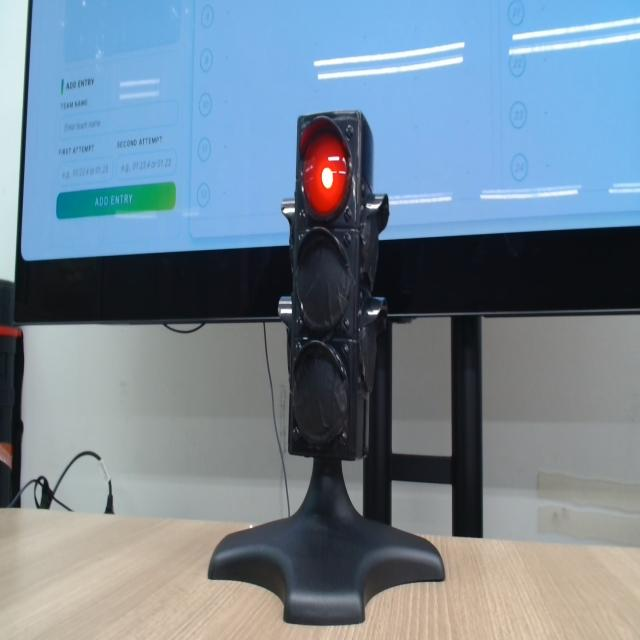red_light: (303, 131, 347, 216)
